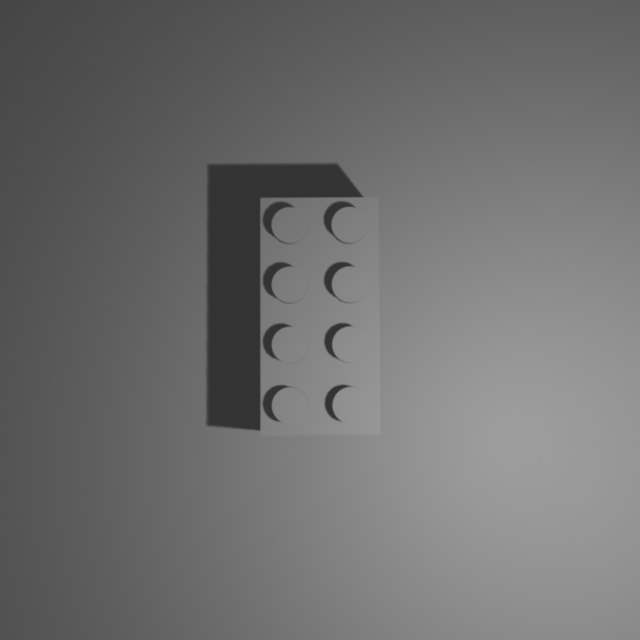lego_2x4: (260, 195, 382, 436)
